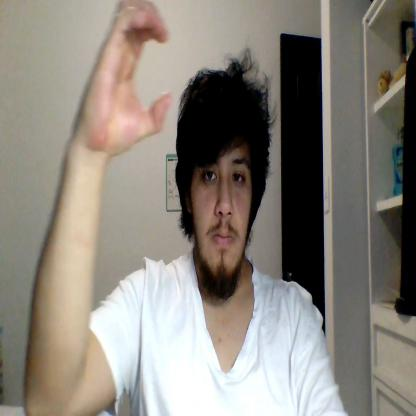C: (73, 0, 171, 156)
